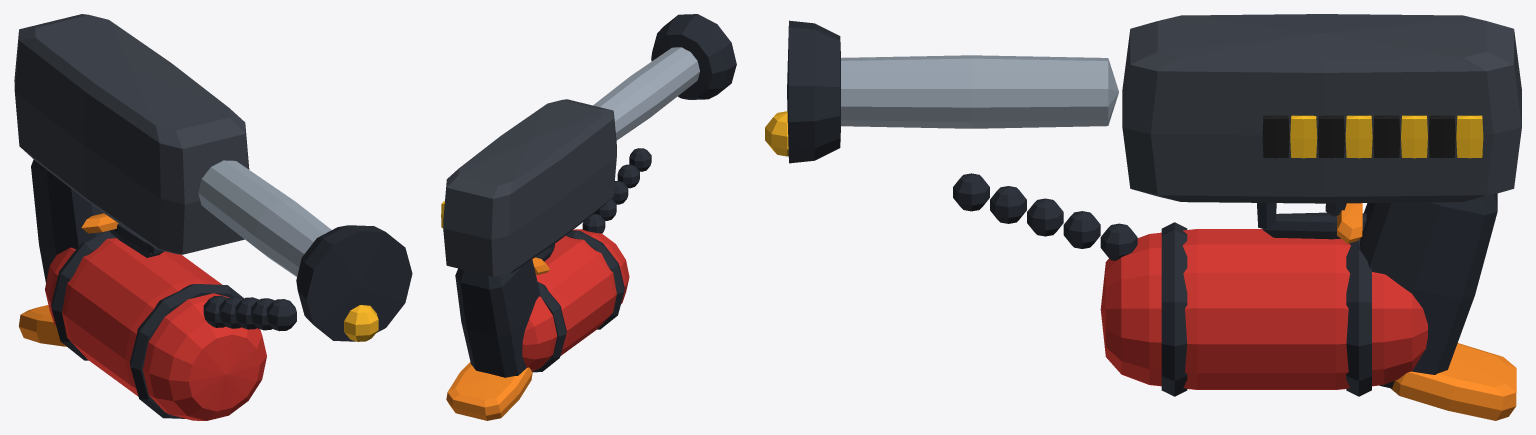
The model's file is g-x-napalm.glb.
3 views of the same model, side by side, from view 1: azimuth 30°, elevation 25°; view 2: azimuth 150°, elevation 25°; view 3: azimuth 270°, elevation 25° (orthographic). The views are drawn at different scales.
Visible parts, largest first — view 1: gun; view 2: gun; view 3: gun.
Boxes of the visible parts, x1,y1,x2,y2 form: gun: (14,14,412,420); gun: (441,14,736,420); gun: (765,14,1521,420).
Size of the model in its own units: 0.19 by 0.4512 by 0.8203.
